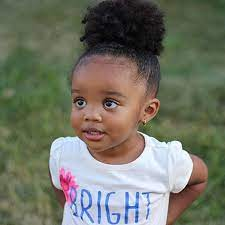person: (69, 44, 161, 152)
